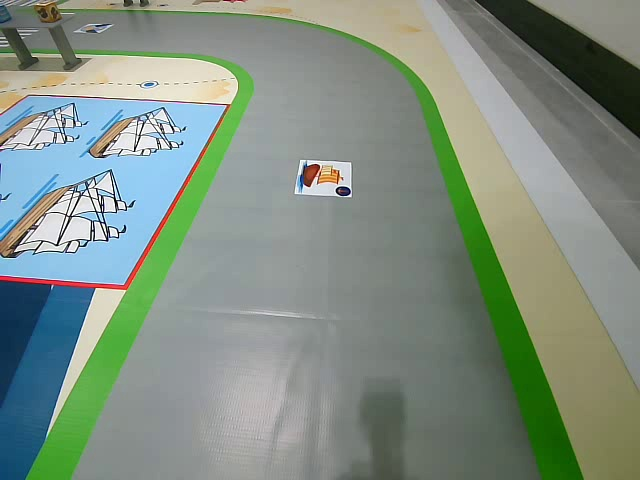fishes: (1, 1, 19, 29)
fishingBoatsSingLate: (298, 160, 351, 197)
pinecones: (34, 1, 62, 21)
